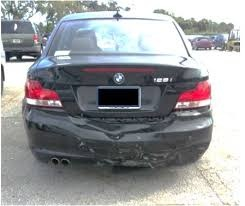Dent: (77, 116, 175, 145)
Scratch: (77, 132, 204, 169)
